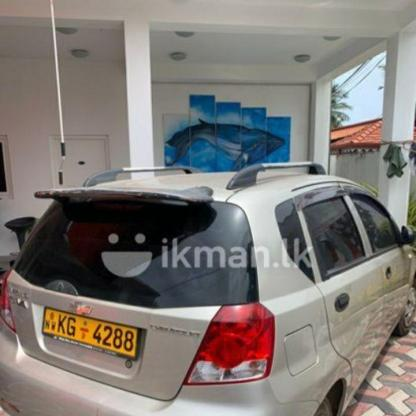car back: (5, 154, 416, 416)
number plate: (40, 306, 140, 355)
